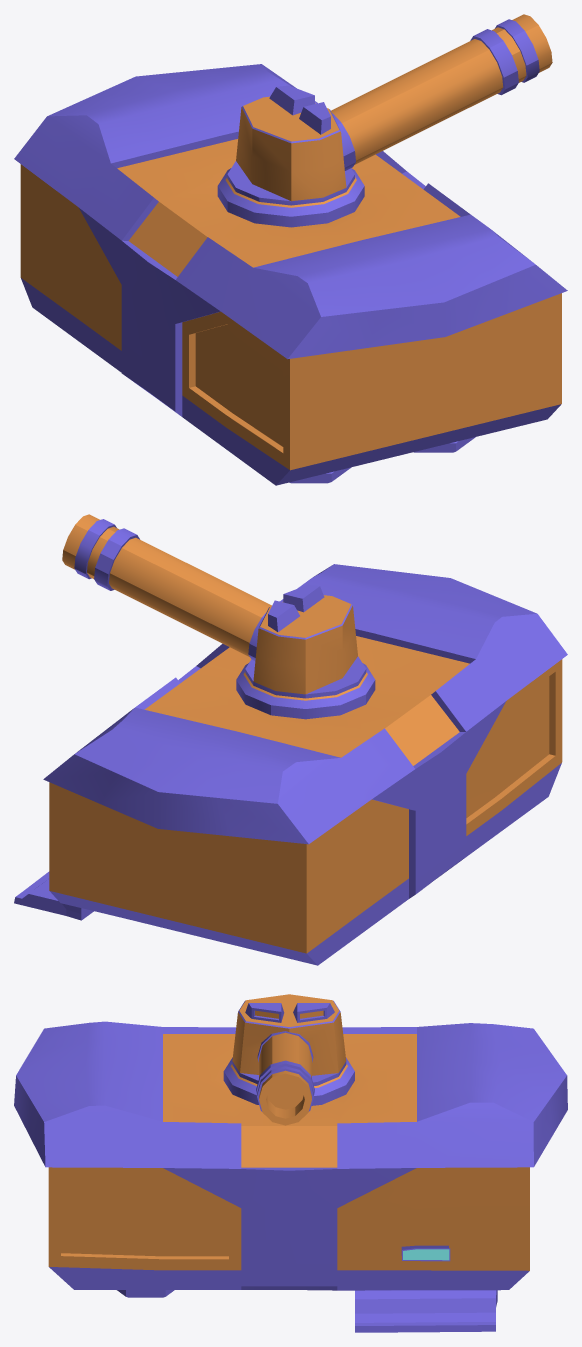
The model's file is Train_CannonCar 1.fbx.
3 views of the same model, one above another, from view 1: azimuth 30°, elevation 25°; view 2: azimuth 150°, elevation 25°; view 3: azimuth 270°, elevation 25° (orthographic). The views are drawn at different scales.
Parts seen in each view (by area): view 1: Train_CannonCar; view 2: Train_CannonCar; view 3: Train_CannonCar.
Boxes of the visible parts, <box> form: Train_CannonCar: <box>14,14,567,485</box>; Train_CannonCar: <box>14,514,567,965</box>; Train_CannonCar: <box>14,994,567,1332</box>.
Bounding box in the file's own units: 2861 × 2250 × 3920.
